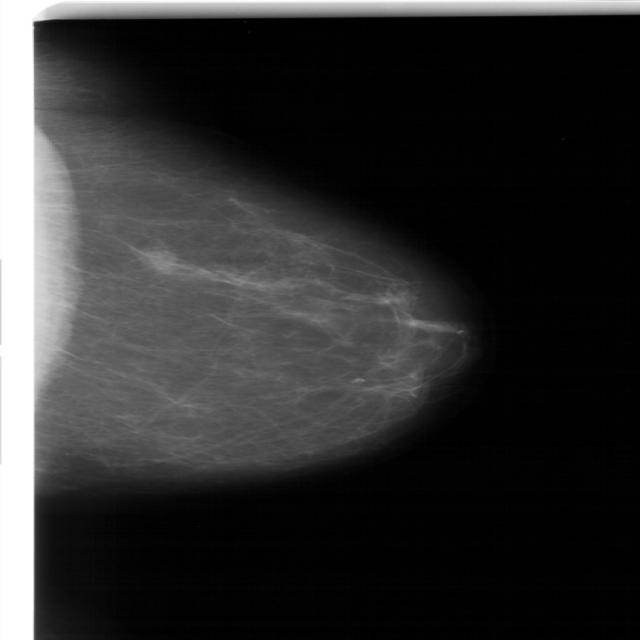tumour: (142, 248, 178, 274)
